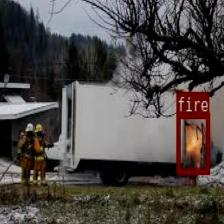fire: (176, 112, 209, 173)
